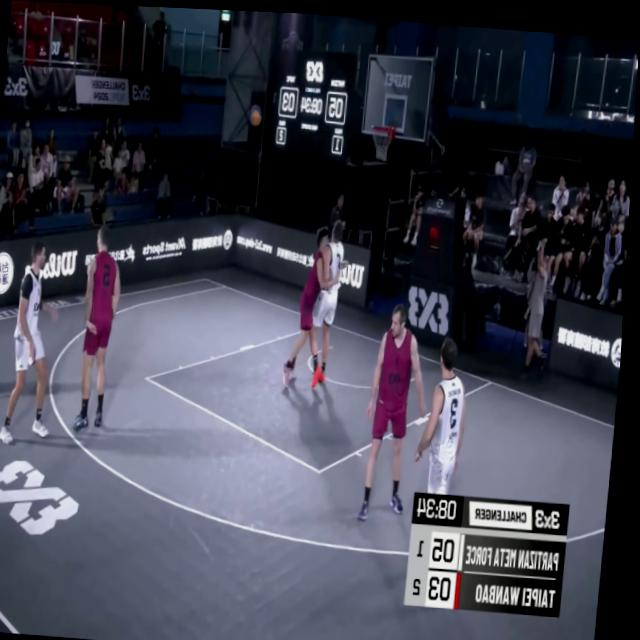hoop: (368, 113, 398, 163)
player: (365, 301, 439, 520), (5, 235, 72, 444), (413, 331, 474, 549), (79, 225, 130, 436), (284, 218, 346, 389), (312, 207, 351, 394)
